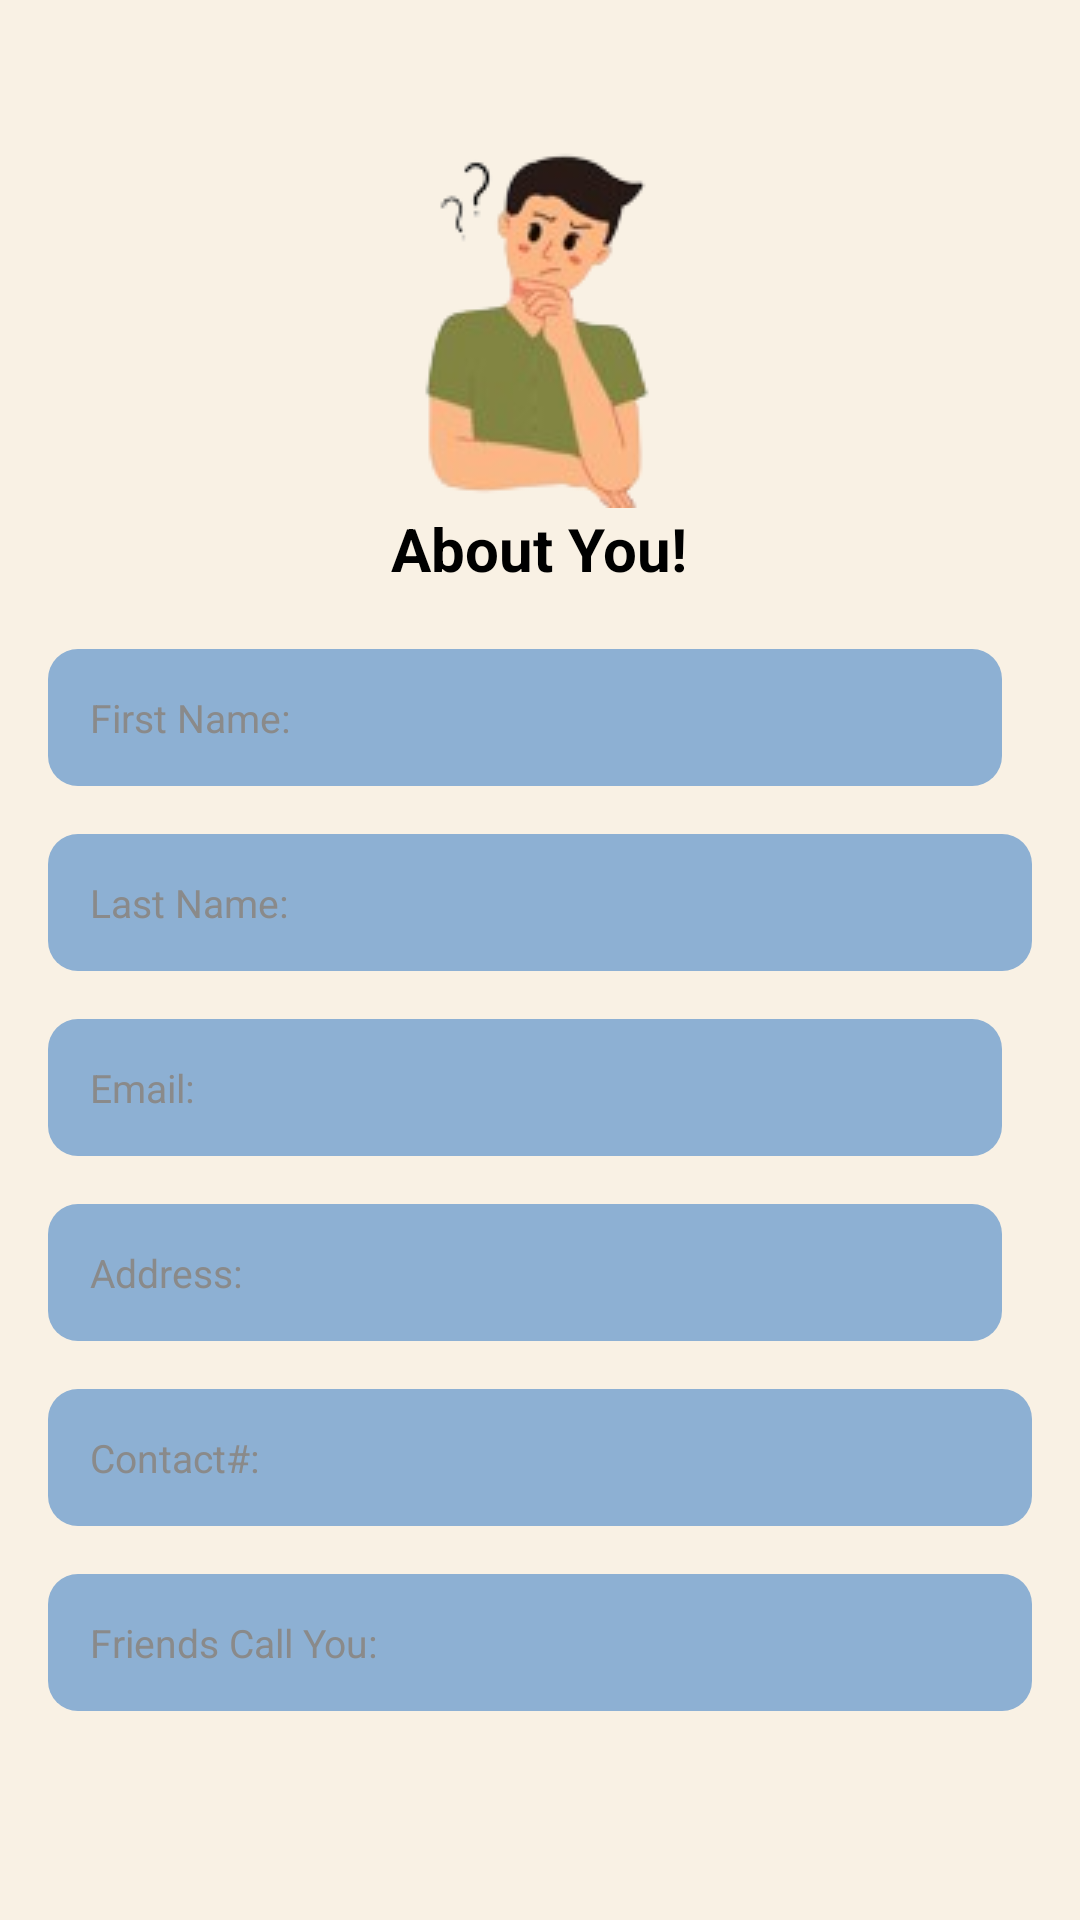

Screen size 1080px x 1920px. Icon name, then its box in pixels as (x1, y1, x2, y2):
thinking: (426, 156, 648, 508)
